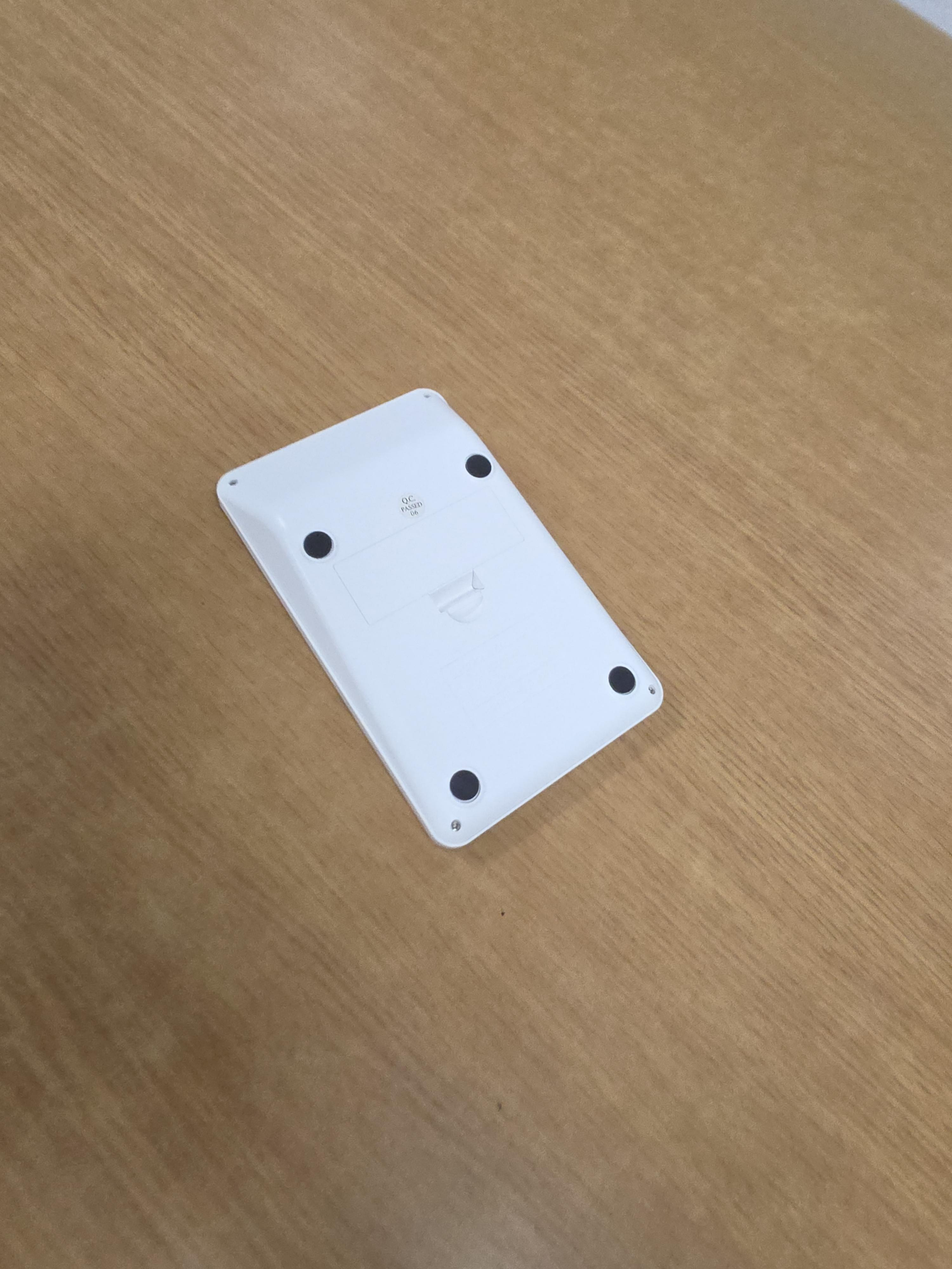calculator: (215, 387, 666, 850)
